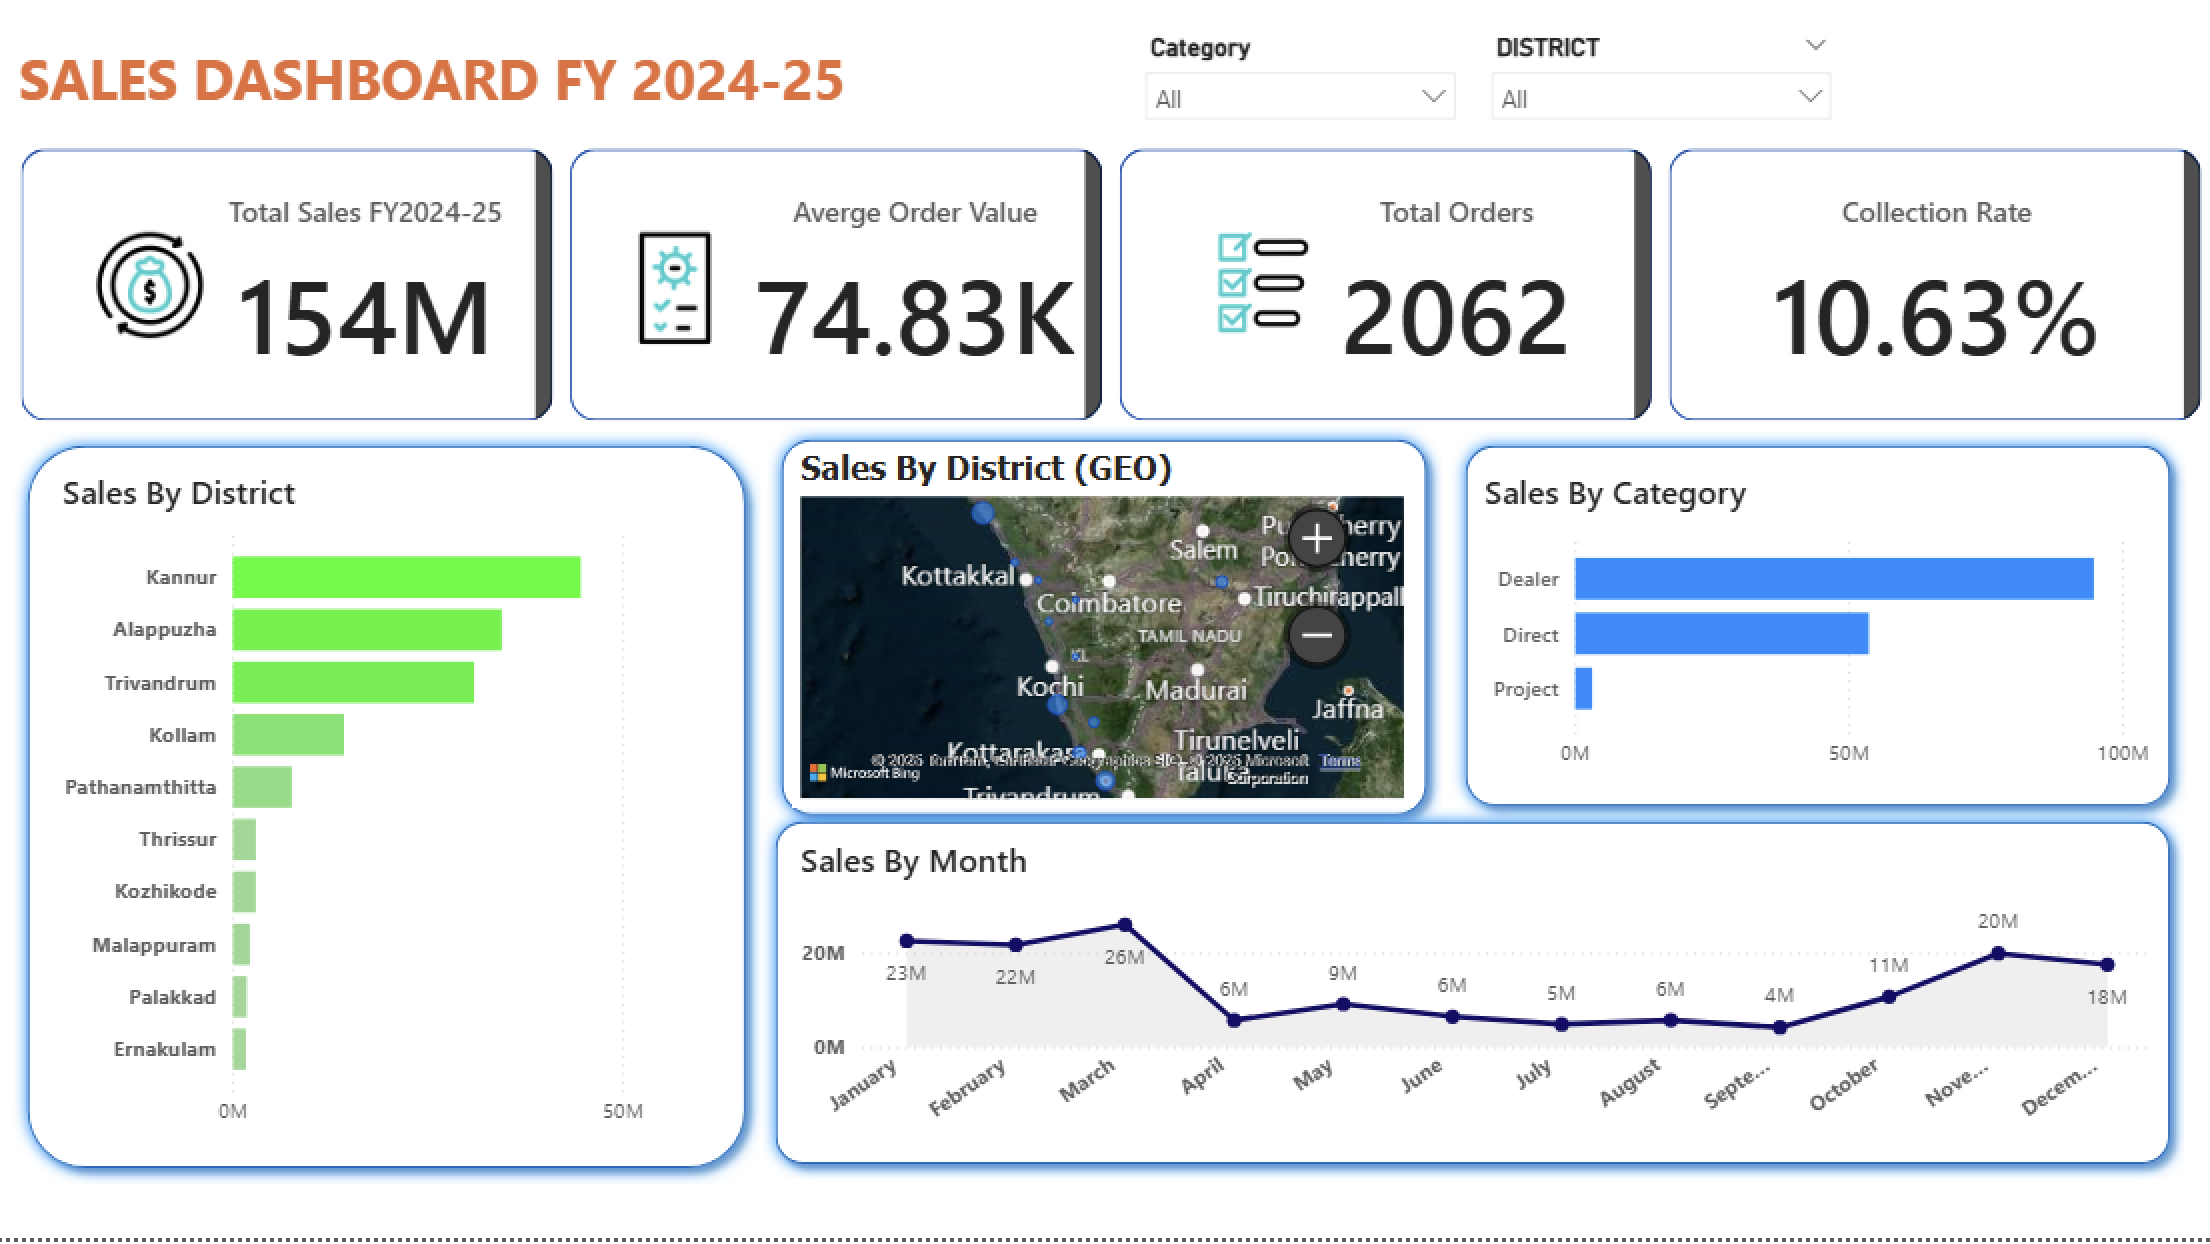

The dashboard page shown, as its layout file describes it:
{"tool":"powerbi","page":{"name":"Page 1","canvas":[1280,720],"ordinal":0},"visuals":[{"type":"shape","box":[444.9,249.9,390.1,234.6],"z":0},{"type":"shape","box":[840.2,253.7,424.5,225.7],"z":1000},{"type":"shape","box":[442.4,470.4,822.3,215.5],"z":2000},{"type":"areaChart","title":"Sales By Month","fields":{"Category":["Sales Data.MONTH"],"Y":["Sales Data.Total Sales FY2024-25"]},"box":[460.2,489.6,789.2,174.7],"z":3000},{"type":"cardVisual","fields":{"Data":["Sales Data.Total Sales FY2024-25","Sales Data.Averge Order Value","Sales Data.Total Orders","Sales Data.Collection Rate"]},"box":[10.2,86.7,1269.8,167],"z":4000},{"type":"map","title":"Sales By District (GEO)","fields":{"Category":["Sales Data.DISTRICT"],"Size":["Sales Data.Total Sales FY2024-25"]},"box":[460.2,263.9,358.2,206.5],"z":5000},{"type":"shape","box":[10.2,253.7,432.2,434.7],"z":6000},{"type":"barChart","title":"Sales By District","fields":{"Y":["Sales Data.Total Sales FY2024-25"],"Category":["Sales Data.DISTRICT"]},"box":[34.4,276.7,390.1,387.6],"z":7000},{"type":"slicer","fields":{"Values":["Sales Data.TYPE"]},"box":[654.8,20.2,199,67.2],"z":8000},{"type":"slicer","fields":{"Values":["Sales Data.DISTRICT"]},"box":[853.8,20.2,216.5,65.9],"z":9000},{"type":"textbox","box":[9.4,22.9,500.2,60.5],"z":10000},{"type":"barChart","title":"Sales By Category","fields":{"Category":["Sales Data.TYPE"],"Y":["Sales Data.Total Sales FY2024-25"]},"box":[855.5,276.7,393.9,181],"z":11000}]}

Visuals, with their boxes in screenshot pixels (x1, y1, x2, y2), scaled from the page's 1280x720 canvas onto the 2210x1244 screenshot:
shape: bbox=[768, 432, 1442, 837]
shape: bbox=[1451, 438, 2184, 828]
shape: bbox=[764, 813, 2184, 1185]
"Sales By Month" areaChart: bbox=[795, 846, 2157, 1148]
cardVisual - Sales Data.Total Sales FY2024-25 x Sales Data.Averge Order Value: bbox=[18, 150, 2209, 438]
"Sales By District (GEO)" map: bbox=[795, 456, 1413, 813]
shape: bbox=[18, 438, 764, 1189]
"Sales By District" barChart: bbox=[59, 478, 733, 1148]
slicer - Sales Data.TYPE: bbox=[1131, 35, 1474, 151]
slicer - Sales Data.DISTRICT: bbox=[1474, 35, 1848, 149]
textbox: bbox=[16, 40, 880, 144]
"Sales By Category" barChart: bbox=[1477, 478, 2157, 791]
